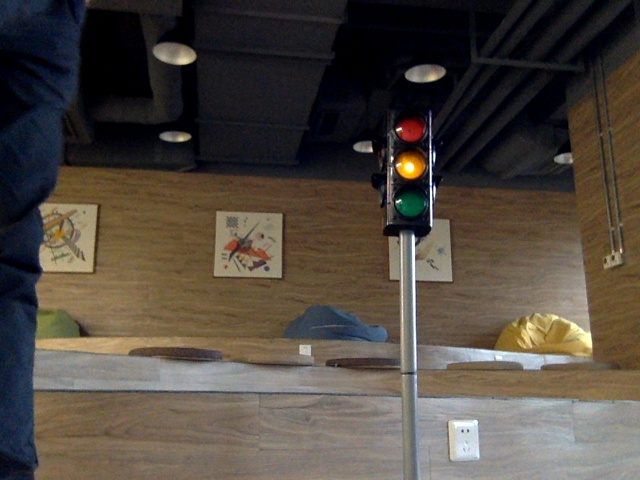yellow: (390, 120, 428, 224)
